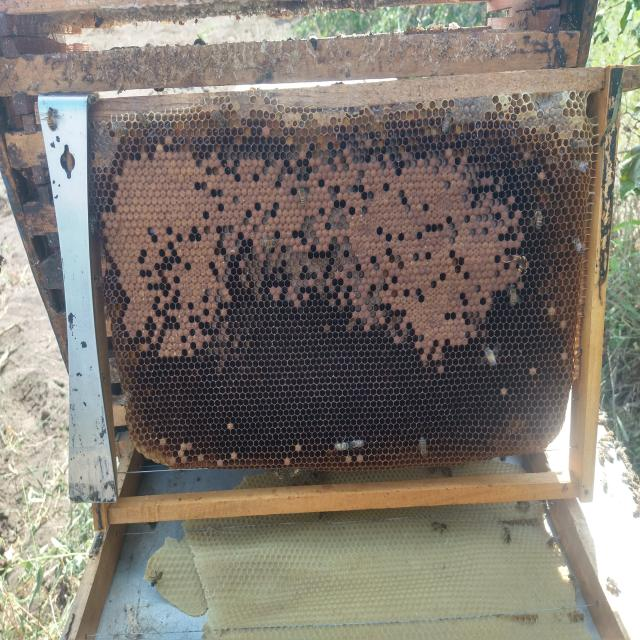cria: (101, 133, 532, 376)
marco: (91, 130, 580, 486)
